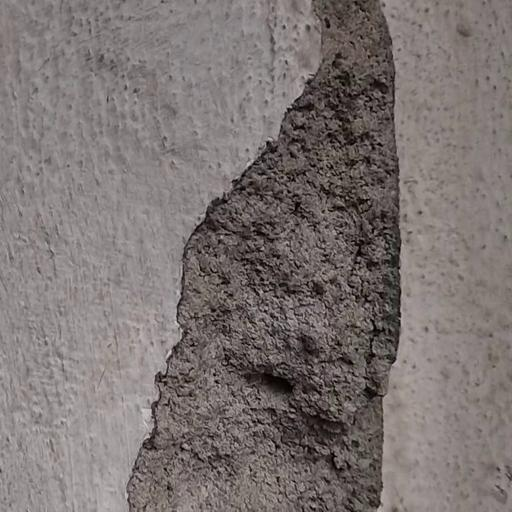spalling: (124, 0, 409, 512)
